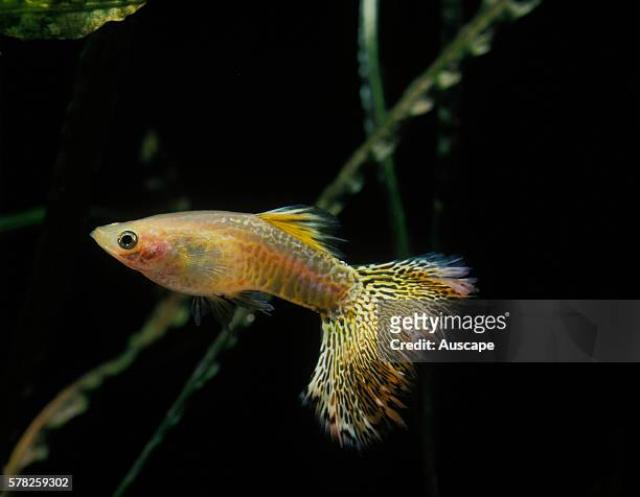Mulut: (72, 195, 128, 269)
Sirip Anal: (233, 277, 297, 329)
Sirip Dada: (162, 231, 236, 287)
Sirip Ekor: (298, 246, 494, 462)
Sirip Perut: (174, 286, 243, 340)
Sirip Punggung: (245, 195, 361, 273)
